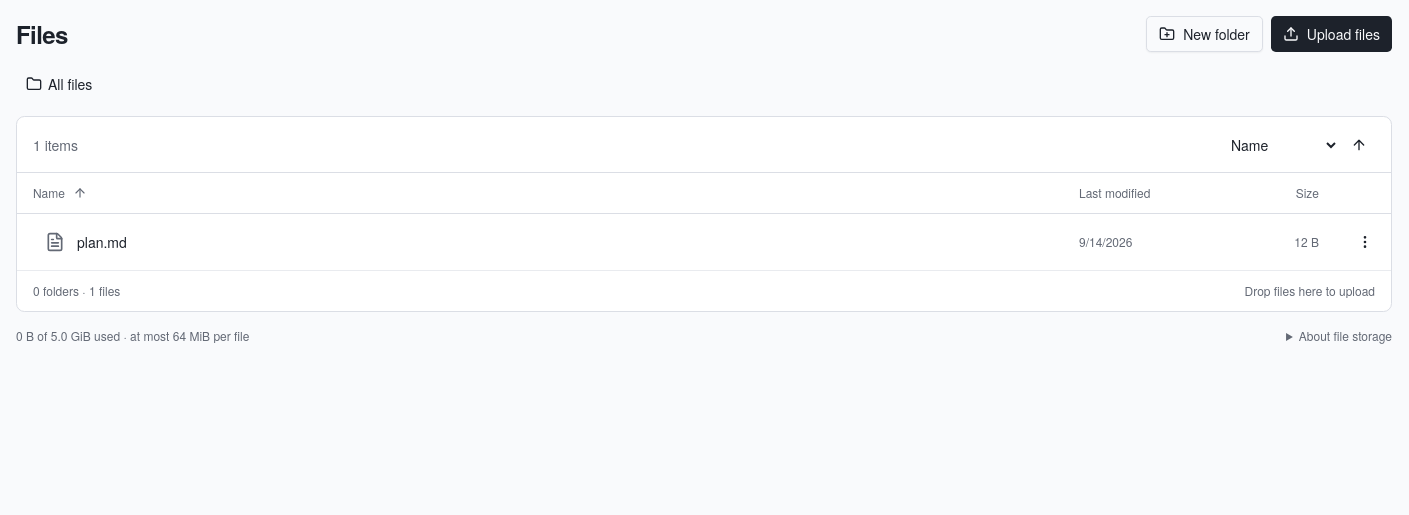
Test case: Files › opens download beside the row and restores focus when the menu closes
The width and height of the screenshot is (1409, 515).
Click the button named "Actions for plan.md". click: [1365, 242]
box: x1=1347 y1=224 x2=1383 y2=260
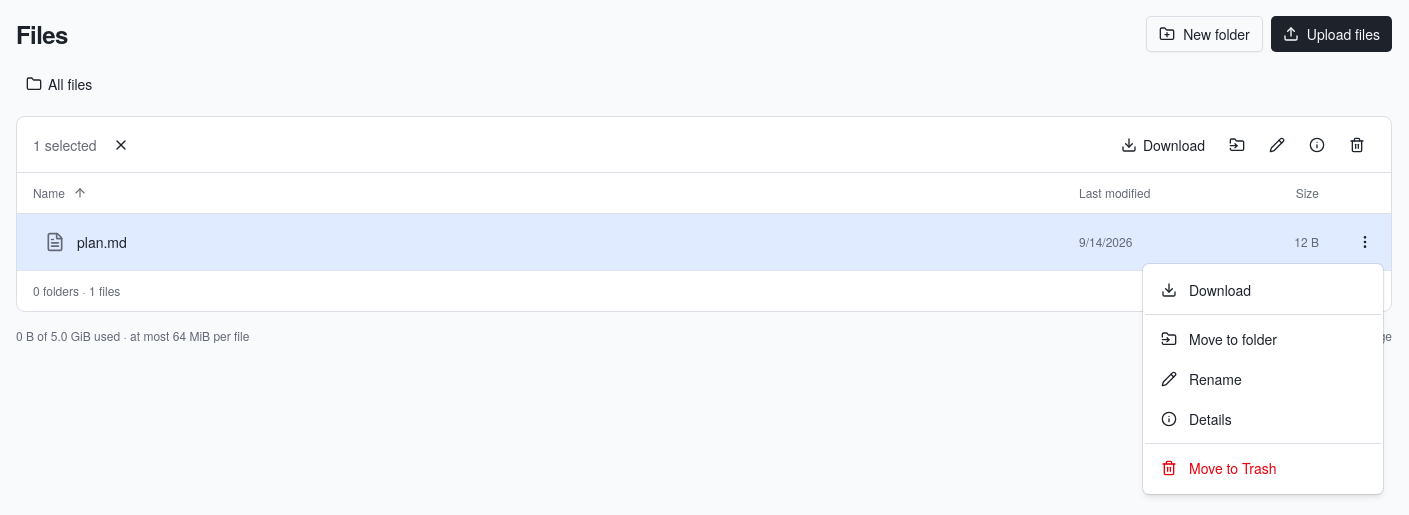
Press Escape
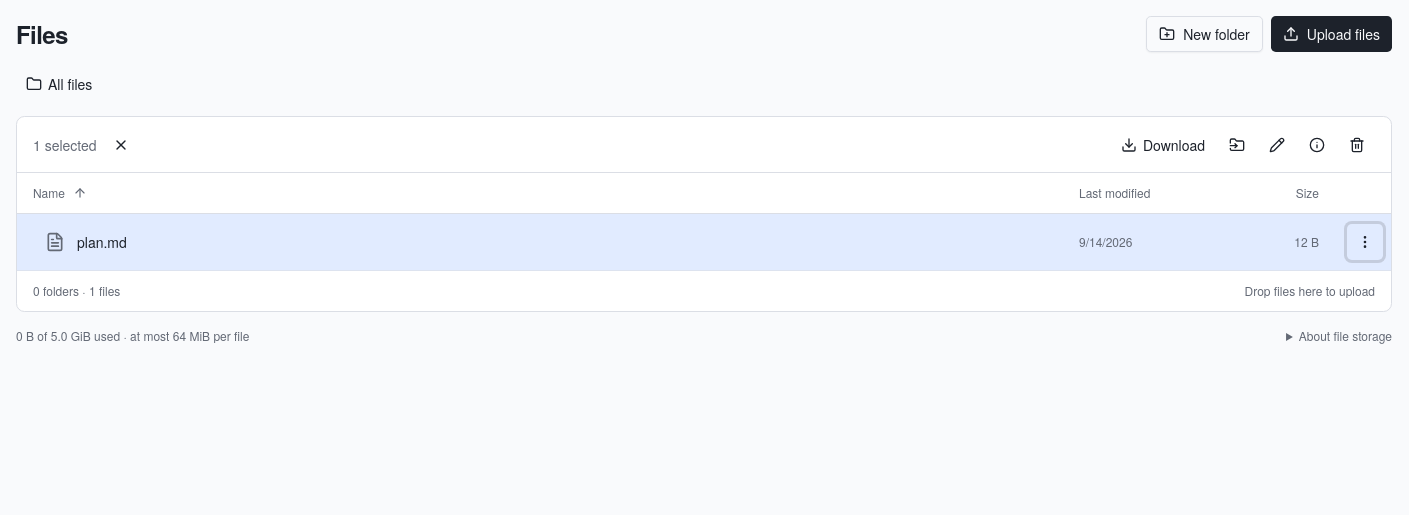
expect the menu is gone: met
